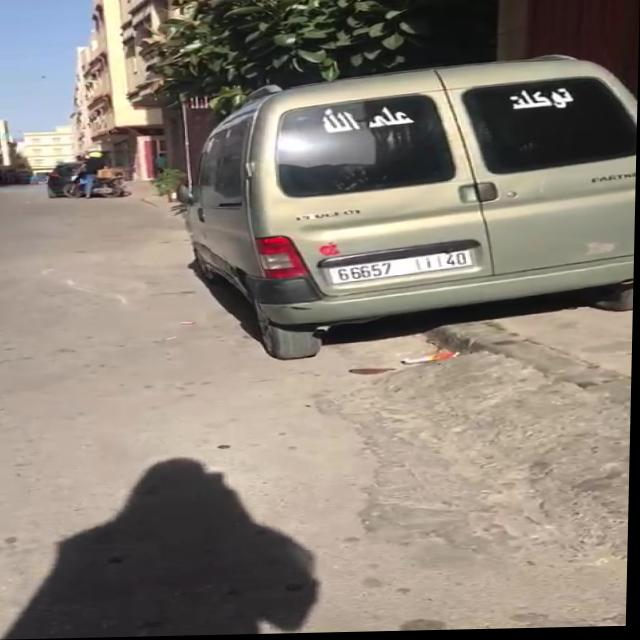License-Plate: (329, 252, 473, 285)
